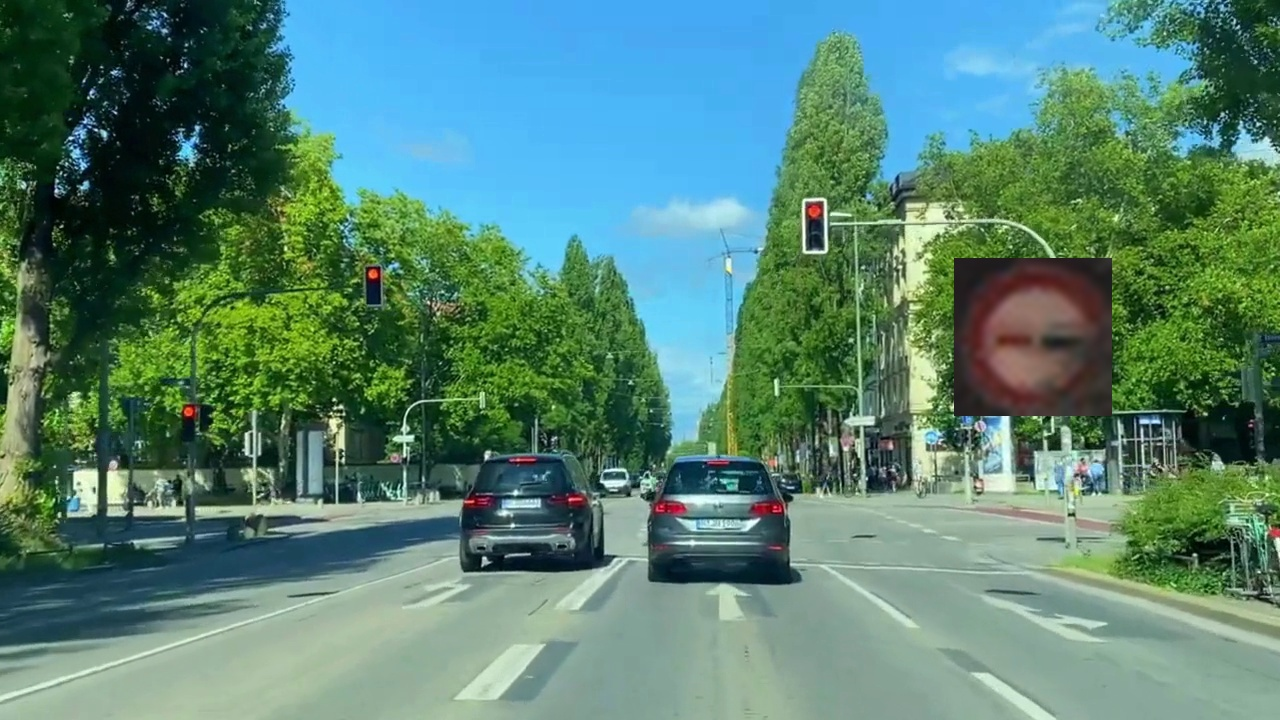No passing: (954, 258, 1112, 416)
